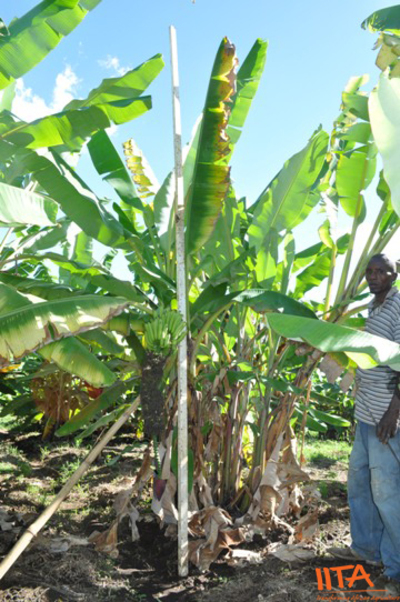bananaHand: (141, 303, 194, 358)
